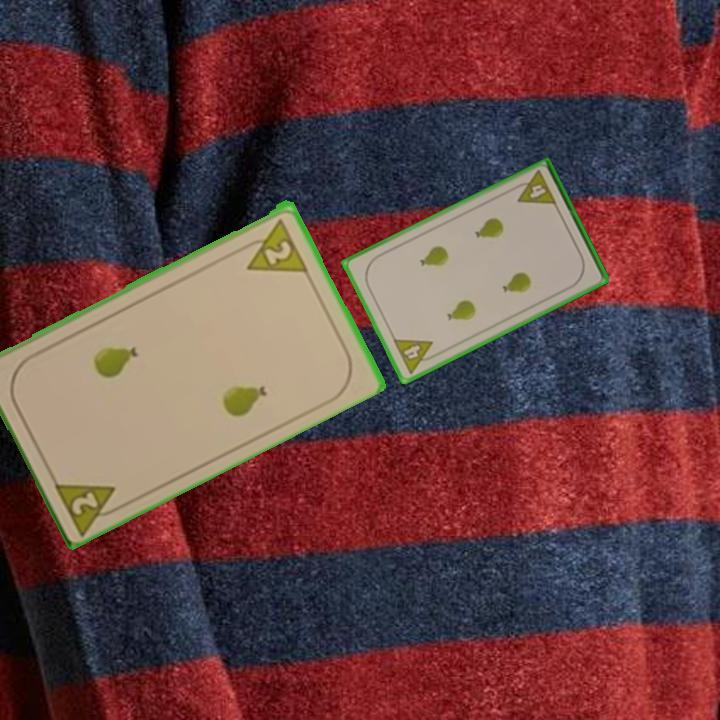2p: (49, 475, 129, 536), (236, 213, 310, 275)
4p: (389, 335, 441, 377), (509, 167, 559, 208)
